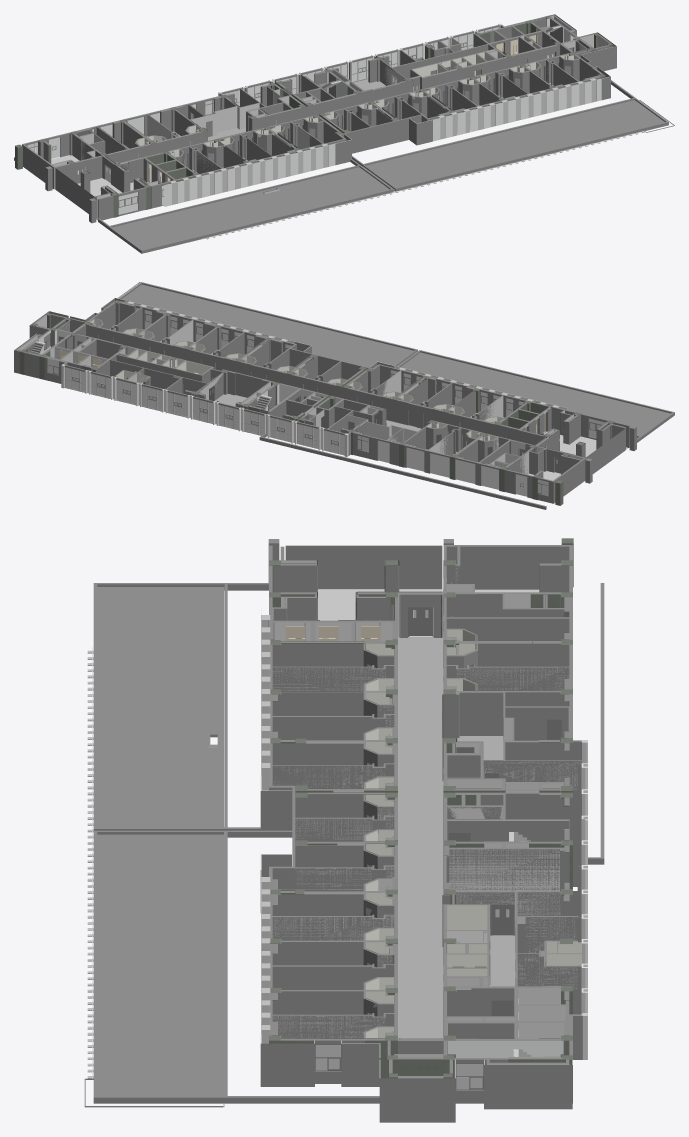
3 renders of one model, top to bottom at view 1: azimuth 30°, elevation 25°; view 2: azimuth 150°, elevation 25°; view 3: azimuth 270°, elevation 25°, orthographic. The views are drawn at different scales.
Visible parts, largest first — view 1: Walls, Roofs, Curtain Panels, Curtain Wall Mullions, Structural Columns, Doors, Floors, Windows, Columns; view 2: Walls, Roofs, Curtain Panels, Structural Columns, Curtain Wall Mullions, Windows, Doors, Columns, Floors; view 3: Walls, Roofs, Floors, Curtain Panels, Structural Columns, Curtain Wall Mullions, Doors, Windows, Columns, Specialty Equipment.
Part boxes in pixels (x1,y1,x2,y2): Walls: (14, 15, 668, 253); Roofs: (112, 100, 664, 249); Curtain Panels: (49, 14, 674, 239); Curtain Wall Mullions: (170, 27, 644, 239); Structural Columns: (15, 15, 613, 223); Doors: (76, 47, 574, 183); Floors: (51, 79, 579, 219); Windows: (27, 35, 574, 207); Columns: (218, 23, 501, 95); Walls: (16, 282, 674, 509); Roofs: (122, 284, 670, 435); Curtain Panels: (14, 282, 605, 496); Structural Columns: (19, 300, 636, 505); Curtain Wall Mullions: (65, 301, 559, 455); Windows: (44, 313, 601, 495); Doors: (58, 334, 560, 473); Columns: (61, 364, 348, 456); Floors: (110, 325, 627, 483); Walls: (93, 545, 604, 1103); Roofs: (97, 587, 224, 1095); Floors: (318, 589, 539, 1038); Curtain Panels: (84, 608, 572, 1122); Structural Columns: (268, 538, 573, 1103); Curtain Wall Mullions: (87, 615, 270, 1078); Doors: (367, 578, 561, 1016); Windows: (315, 1044, 483, 1090); Columns: (581, 740, 587, 1059); Specialty Equipment: (285, 626, 518, 1038).
Size of the model in its own units: 85.5 by 3.27 by 34.75.
31 materials, 3 textured.
